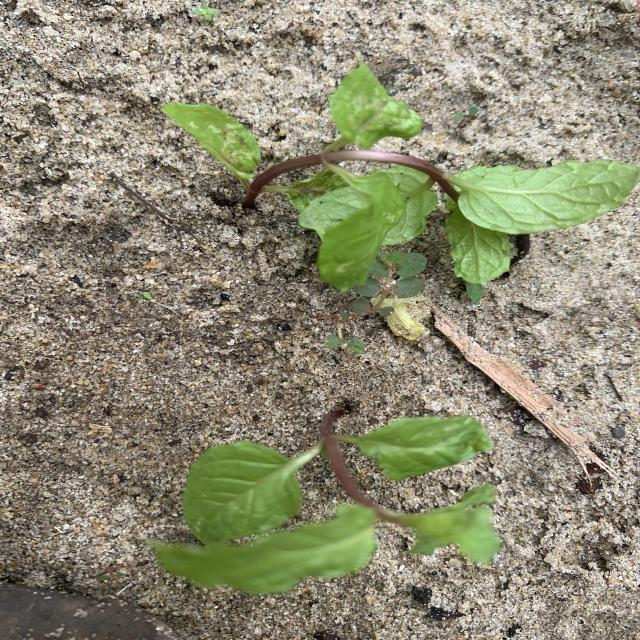crop: (165, 64, 640, 302), (143, 414, 499, 594)
weed: (317, 251, 426, 354), (454, 106, 480, 128), (191, 2, 220, 20)
